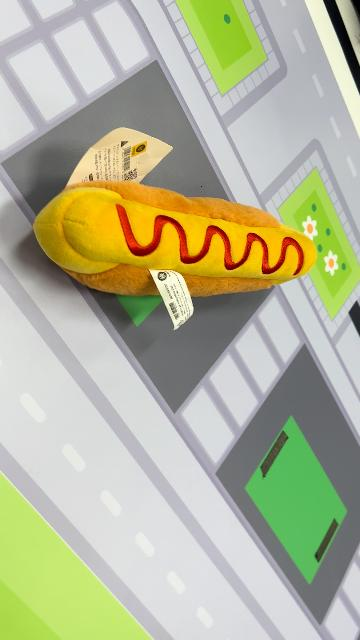hotdog: (33, 180, 319, 300)
